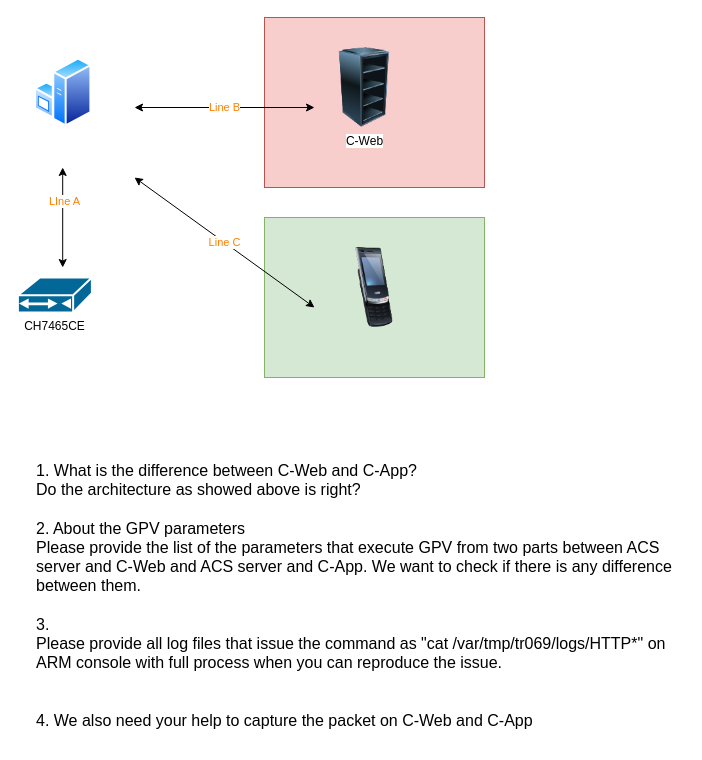
The diagram is 702 pixels wide and 760 high, and some of its shapes have lost their labels. The box of each missing label's shape, as (x1, y1, x2, y2) in pixels:
ACS Server: (34, 57, 91, 127)
C-App: (334, 247, 414, 327)
